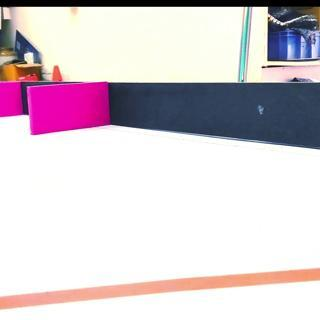xparking: (31, 85, 108, 128), (1, 82, 21, 114)
